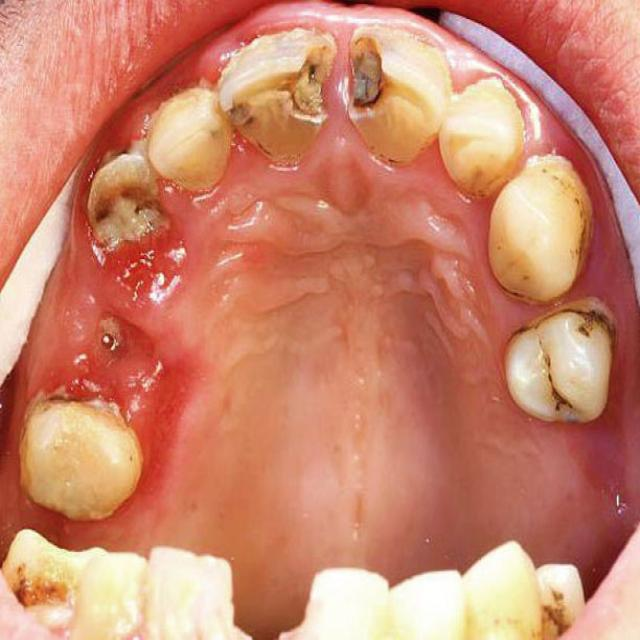caries: (336, 26, 406, 127), (88, 156, 161, 244), (280, 31, 329, 132), (532, 348, 590, 428), (206, 80, 272, 139)
